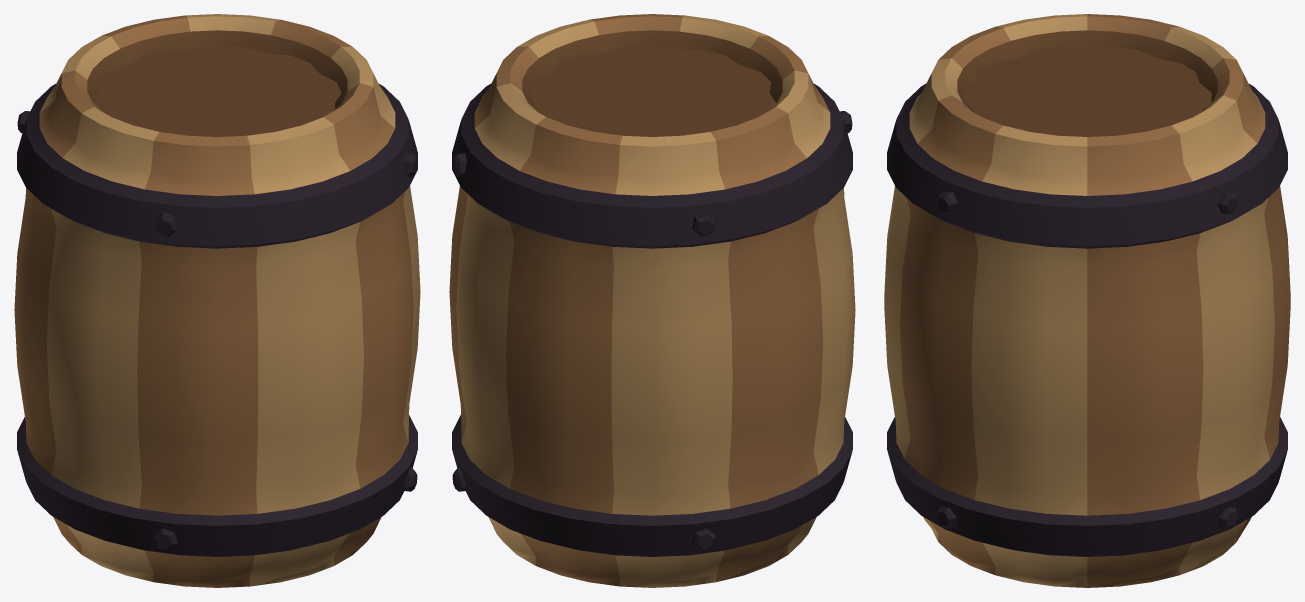
Rendered from Barrel_22.glb.
The picture shows the model from 3 angles, left to right: view 1: azimuth 30°, elevation 25°; view 2: azimuth 150°, elevation 25°; view 3: azimuth 270°, elevation 25°; orthographic projection.
Parts seen in each view (by area): view 1: Barrel_22; view 2: Barrel_22; view 3: Barrel_22.
Part boxes in pixels (box(x1,y1,x2,y2)): Barrel_22: box(14, 14, 420, 587); Barrel_22: box(449, 14, 855, 587); Barrel_22: box(884, 14, 1290, 587).
Size of the model in its own units: 2.02 by 2.48 by 2.04.
